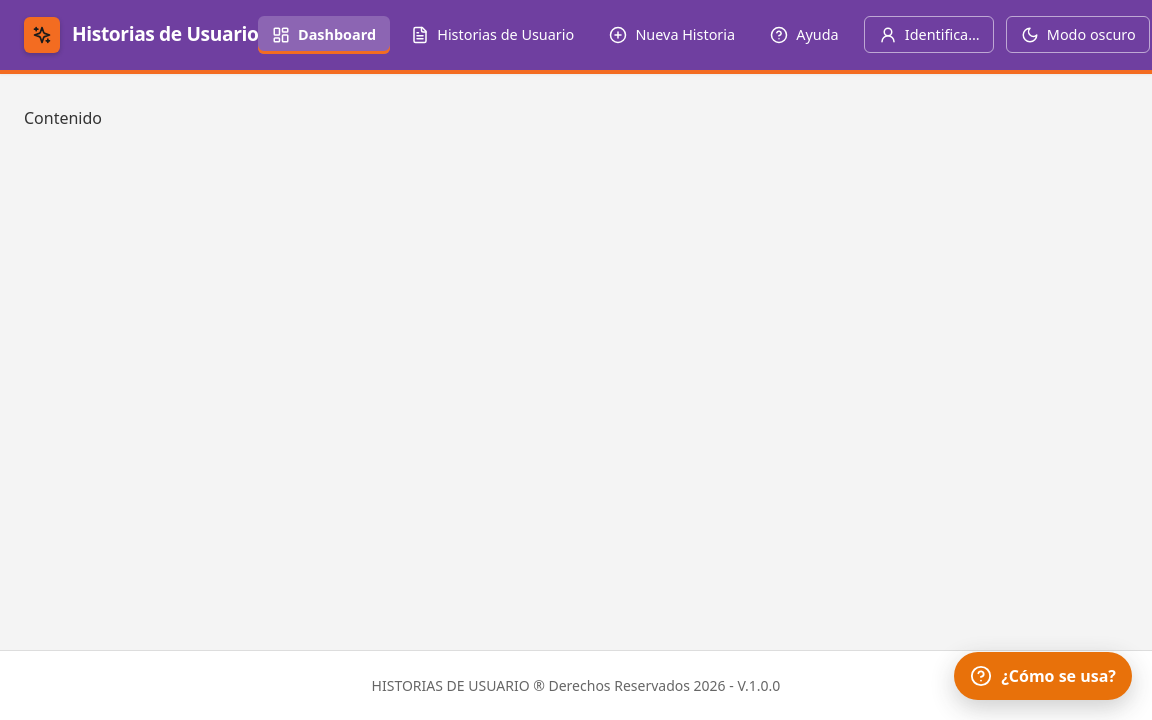
it: MainLayout › permite identificarse y muestra el nombre en el encabezado
Click the button "Identificarse". click: (929,35)
box: left=864, top=16, right=994, bottom=53
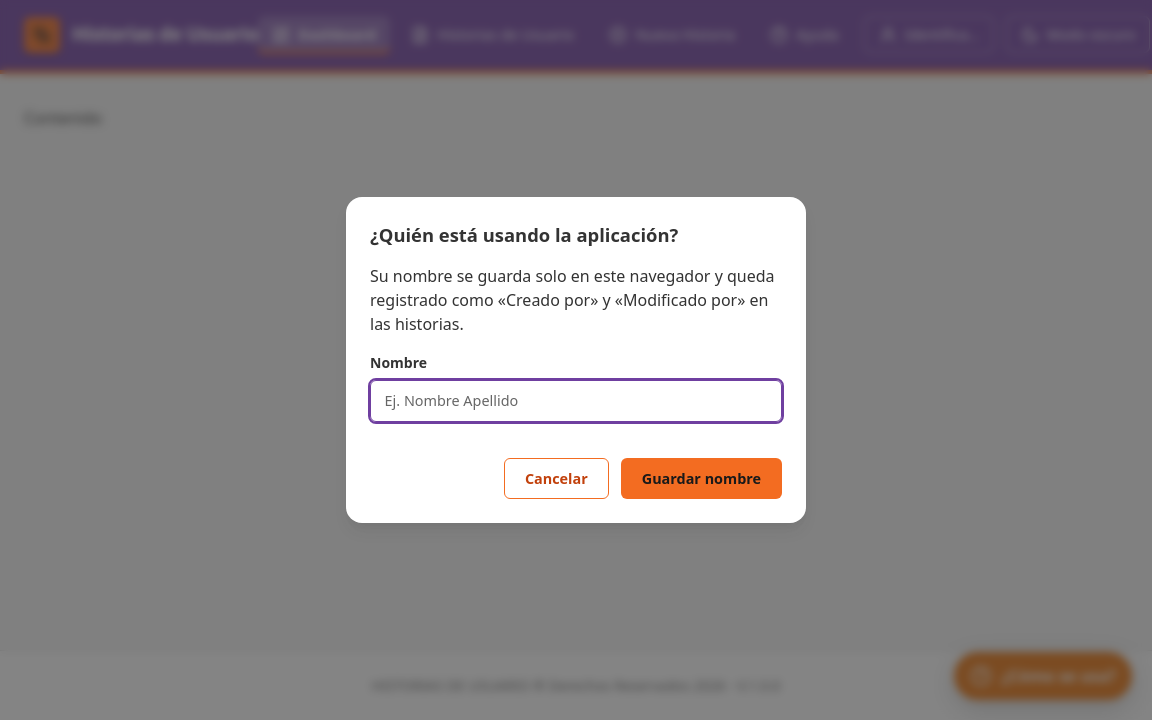
Type "Persona Uno" into the field labelled "Nombre". click: (576,401)
box: left=370, top=380, right=782, bottom=422
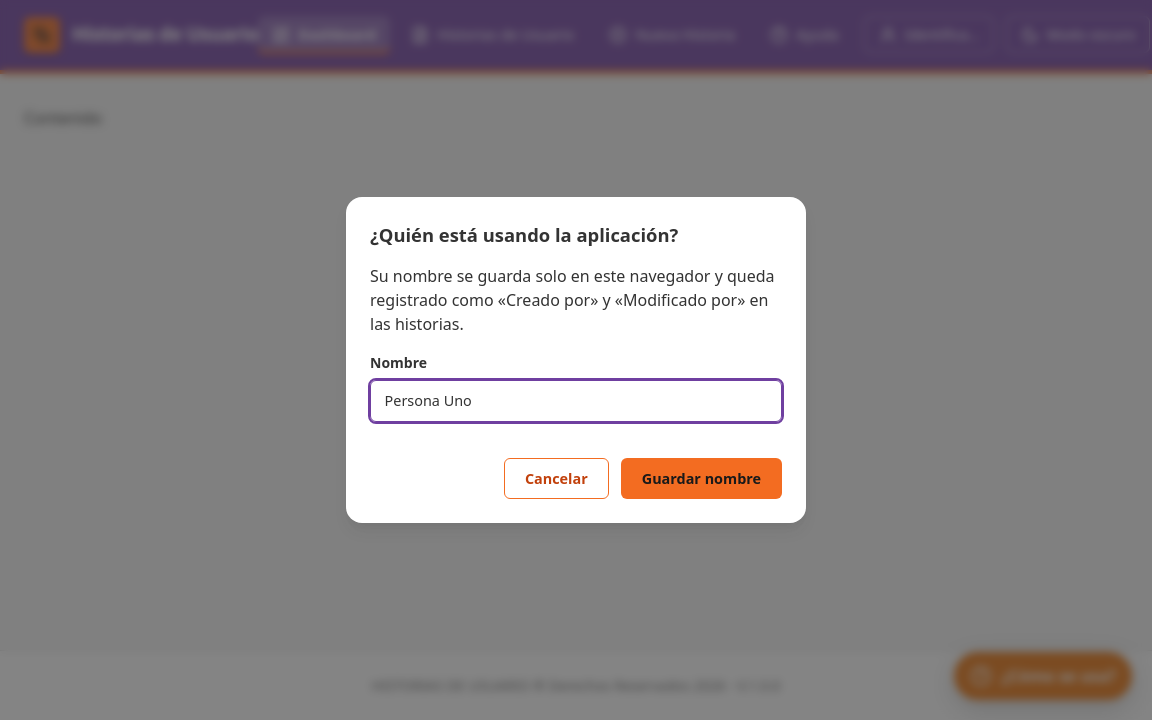
Click the button "Guardar nombre". click: (701,478)
box: left=621, top=458, right=782, bottom=499
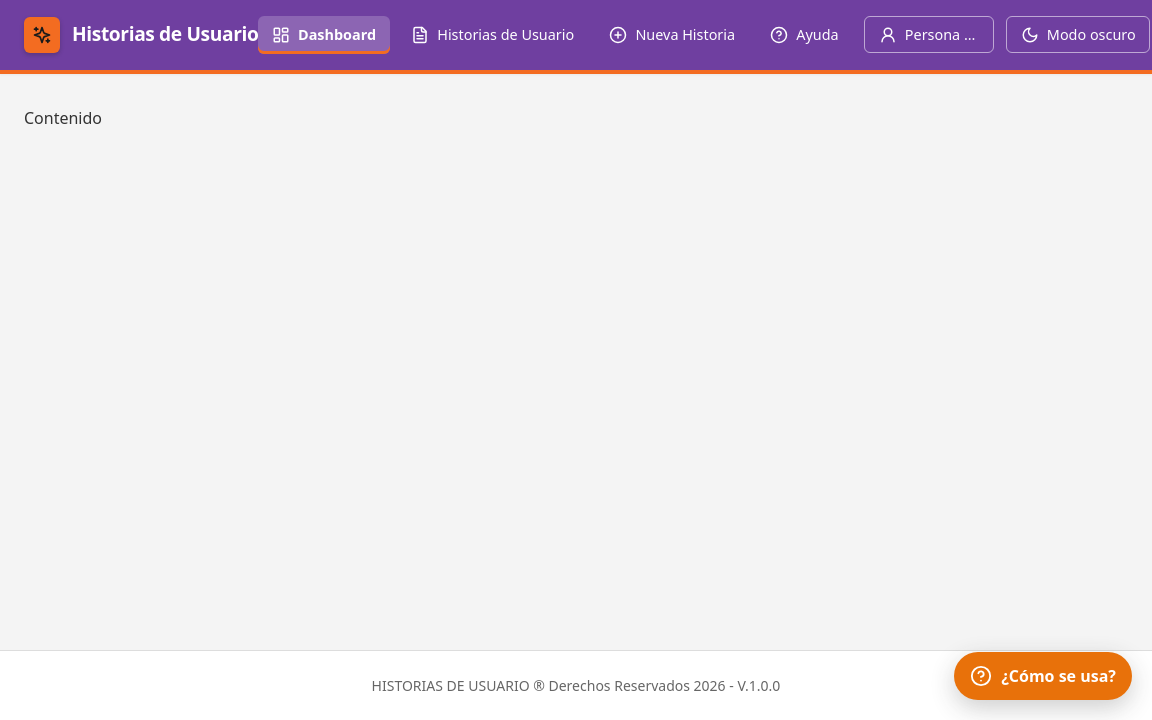
Now the button with aria-label "Usuario: Persona Uno" is shown, box left=864, top=16, right=994, bottom=53
Now the text "Persona Uno" is shown, box left=905, top=25, right=980, bottom=44
